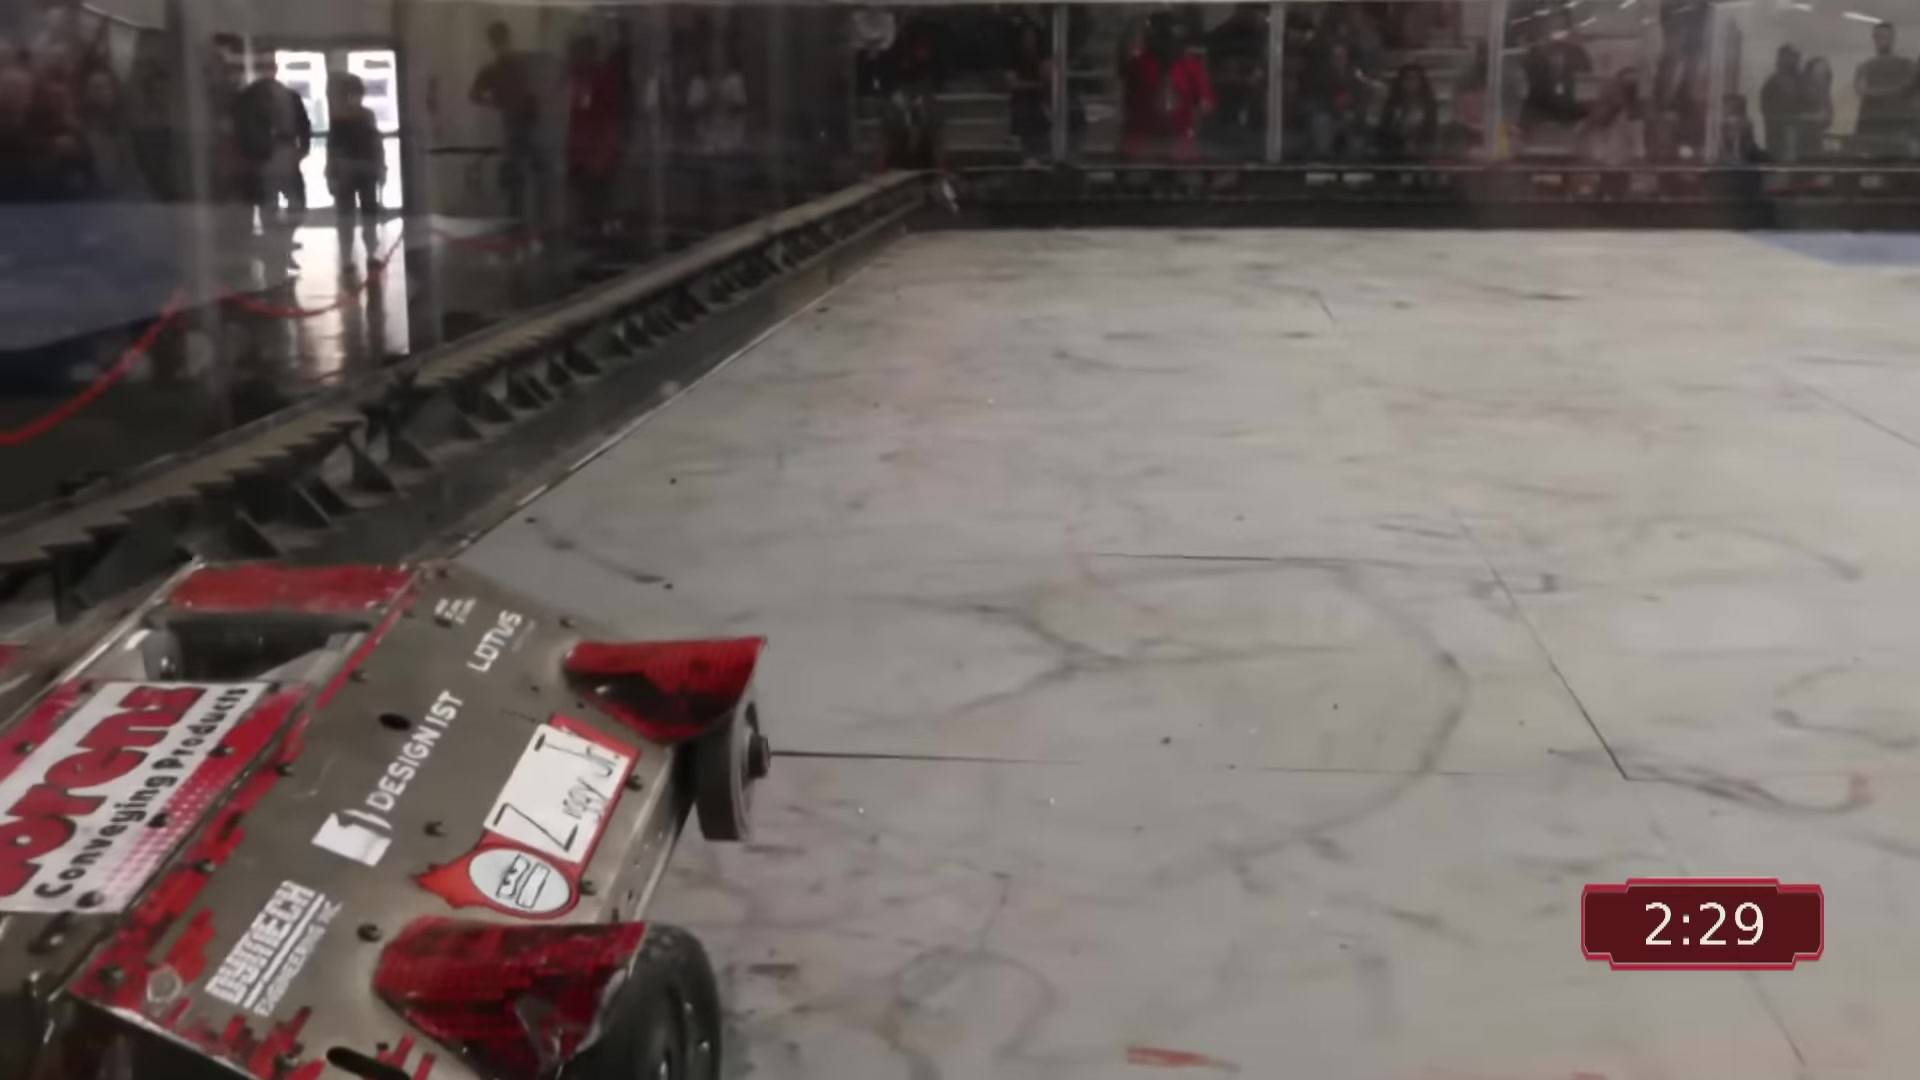combatbot: (0, 556, 774, 1073)
